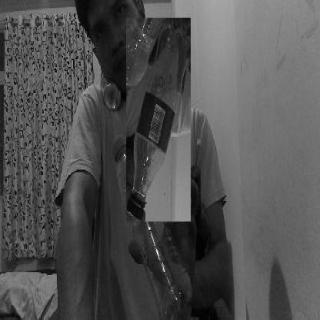plastic_bottles: (112, 132, 194, 317), (127, 19, 191, 222)
